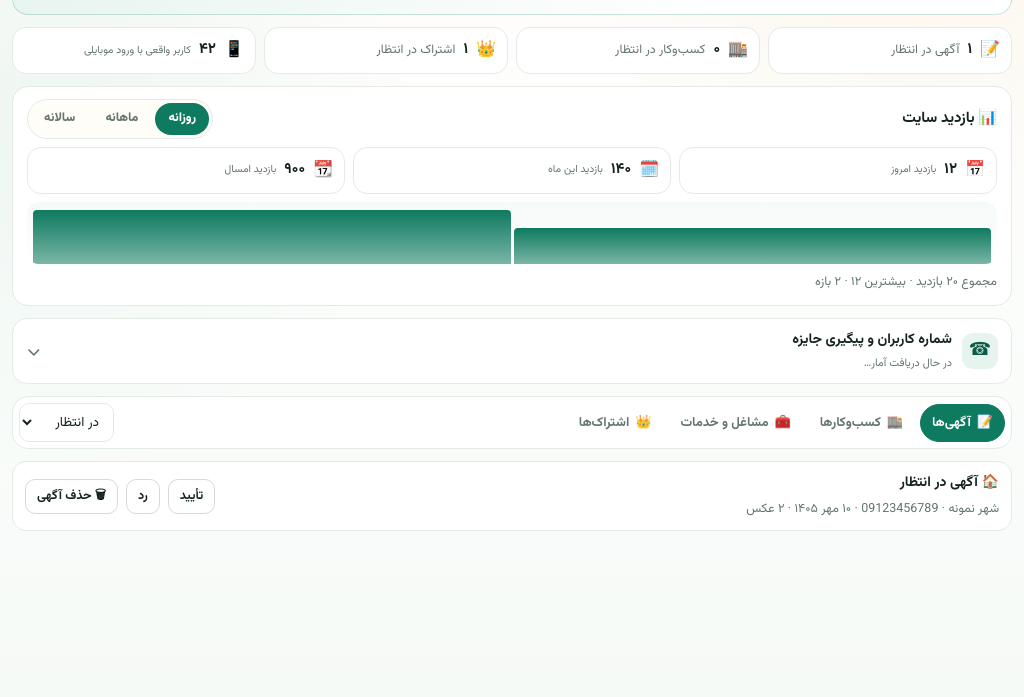
Test: AdminPanel › limits the phone list to 25 rows and pages through the remaining users
The width and height of the screenshot is (1024, 697).
Click the heading with test id "admin-reward-users-toggle".
click(980, 351)  # box [13, 319, 1011, 384]
(page scrolled)
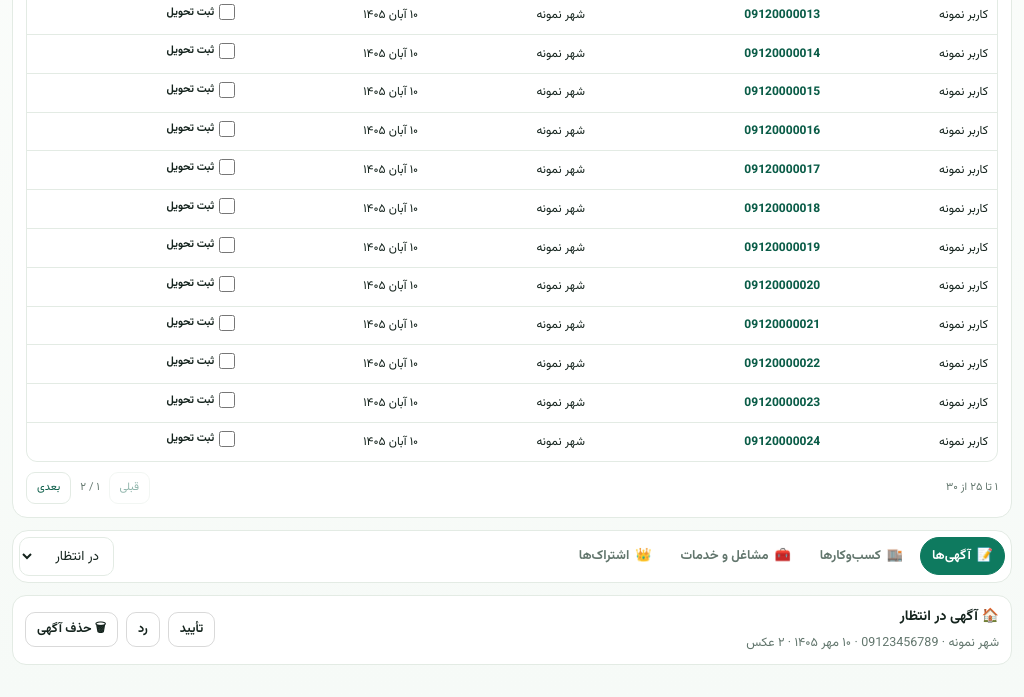
Result: the text with test id "admin-reward-users-range" reads "۱ تا ۲۵ از ۳۰" at [946, 478, 998, 497]
Click the button with test id "admin-reward-users-next".
click(49, 488)  # box [26, 472, 71, 504]
(page scrolled)
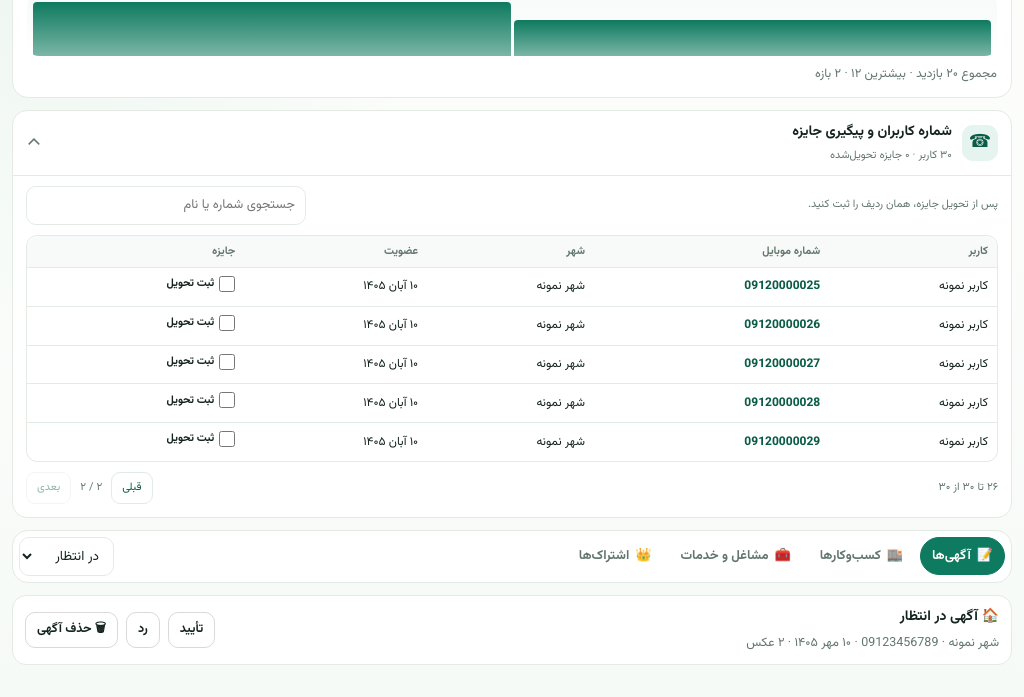
Result: the text with test id "admin-reward-users-range" reads "۲۶ تا ۳۰ از ۳۰" at [938, 479, 998, 497]
Result: the number of checkboxes is 5 at [219, 276, 235, 292]; [219, 315, 235, 331]; [219, 354, 235, 370]; [219, 392, 235, 408]; [219, 431, 235, 447]
